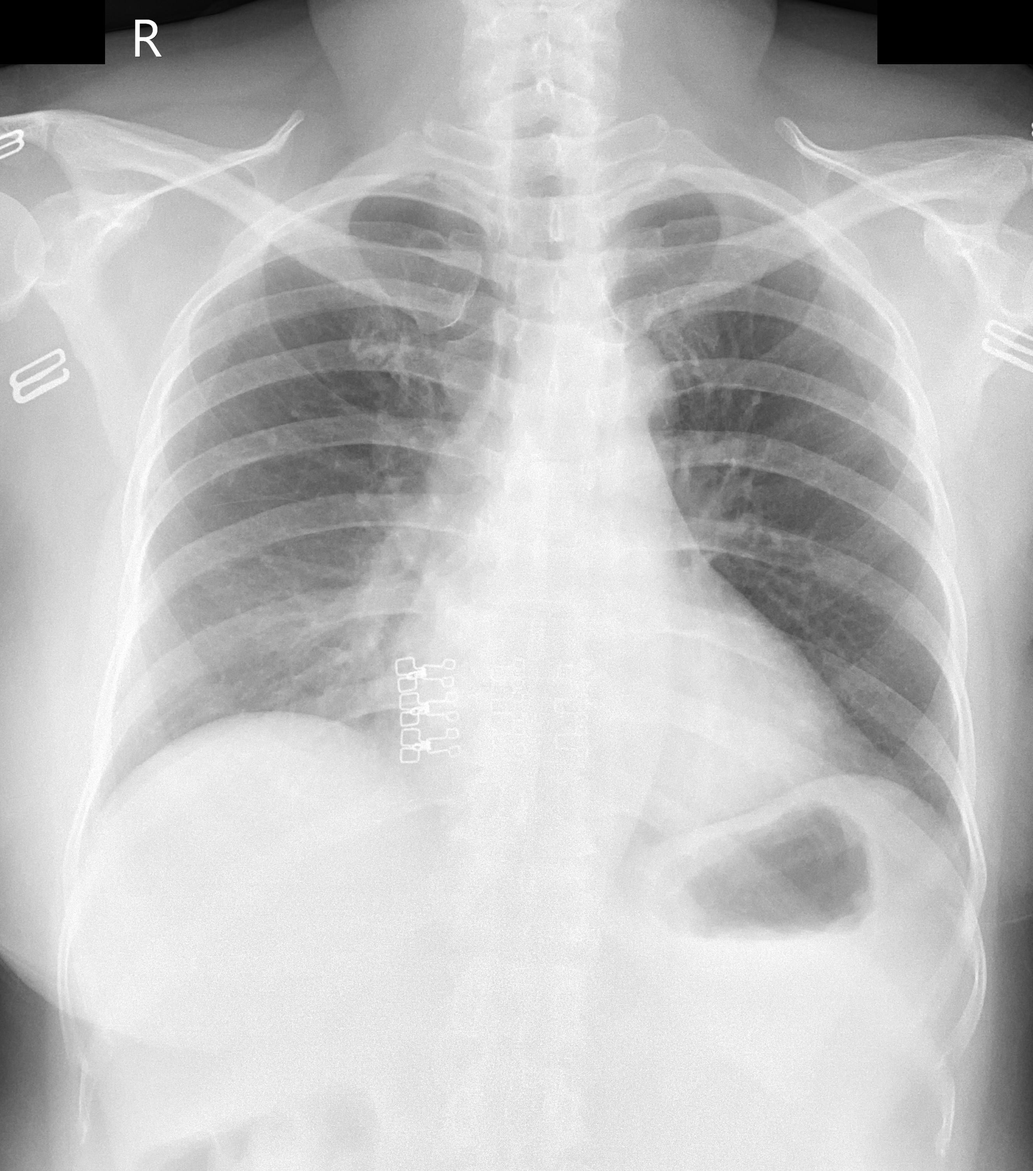Cardiomegaly: (375, 632, 843, 815)
